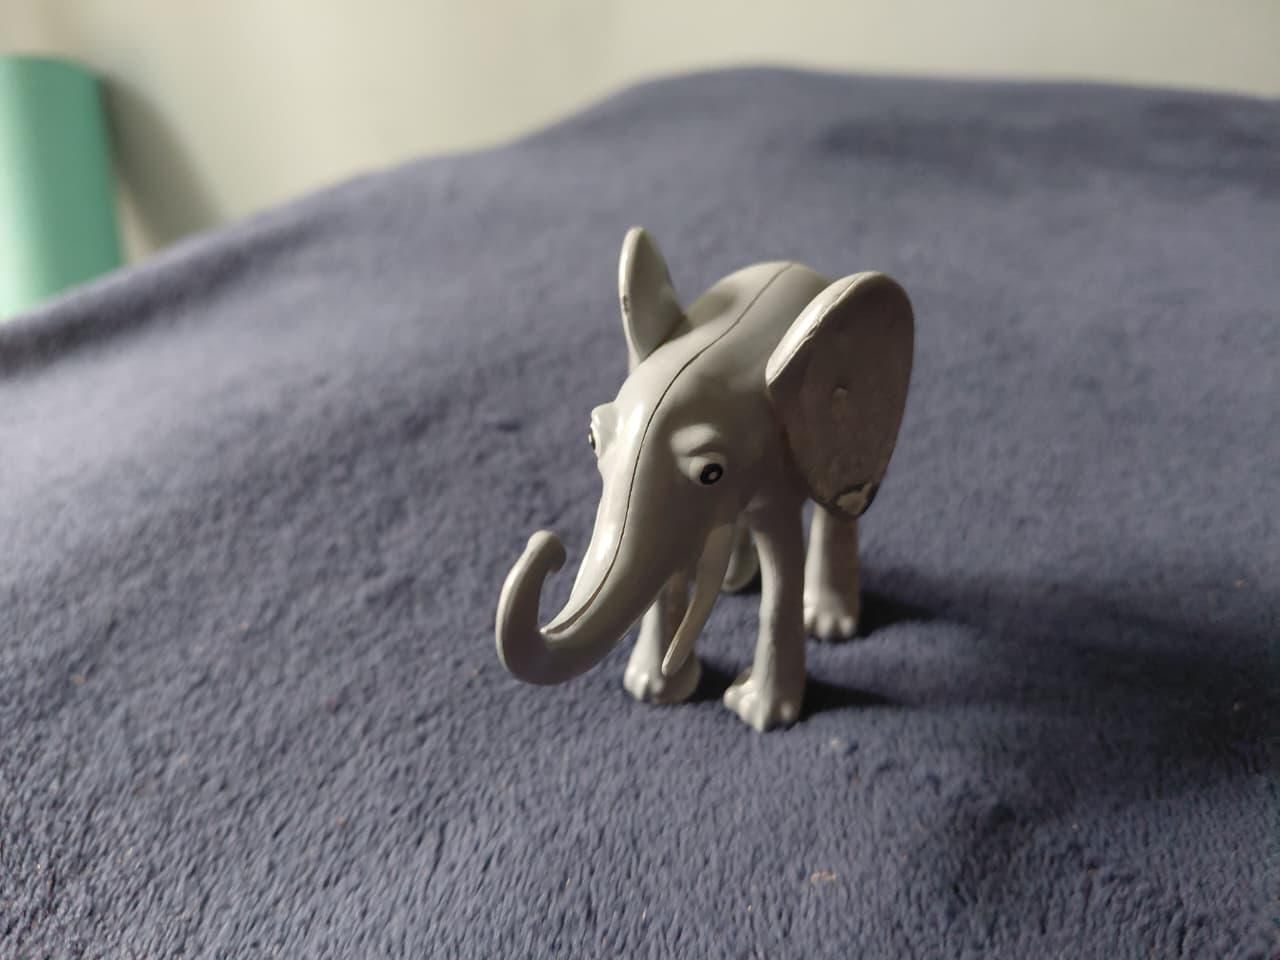elephant: (492, 197, 915, 738)
